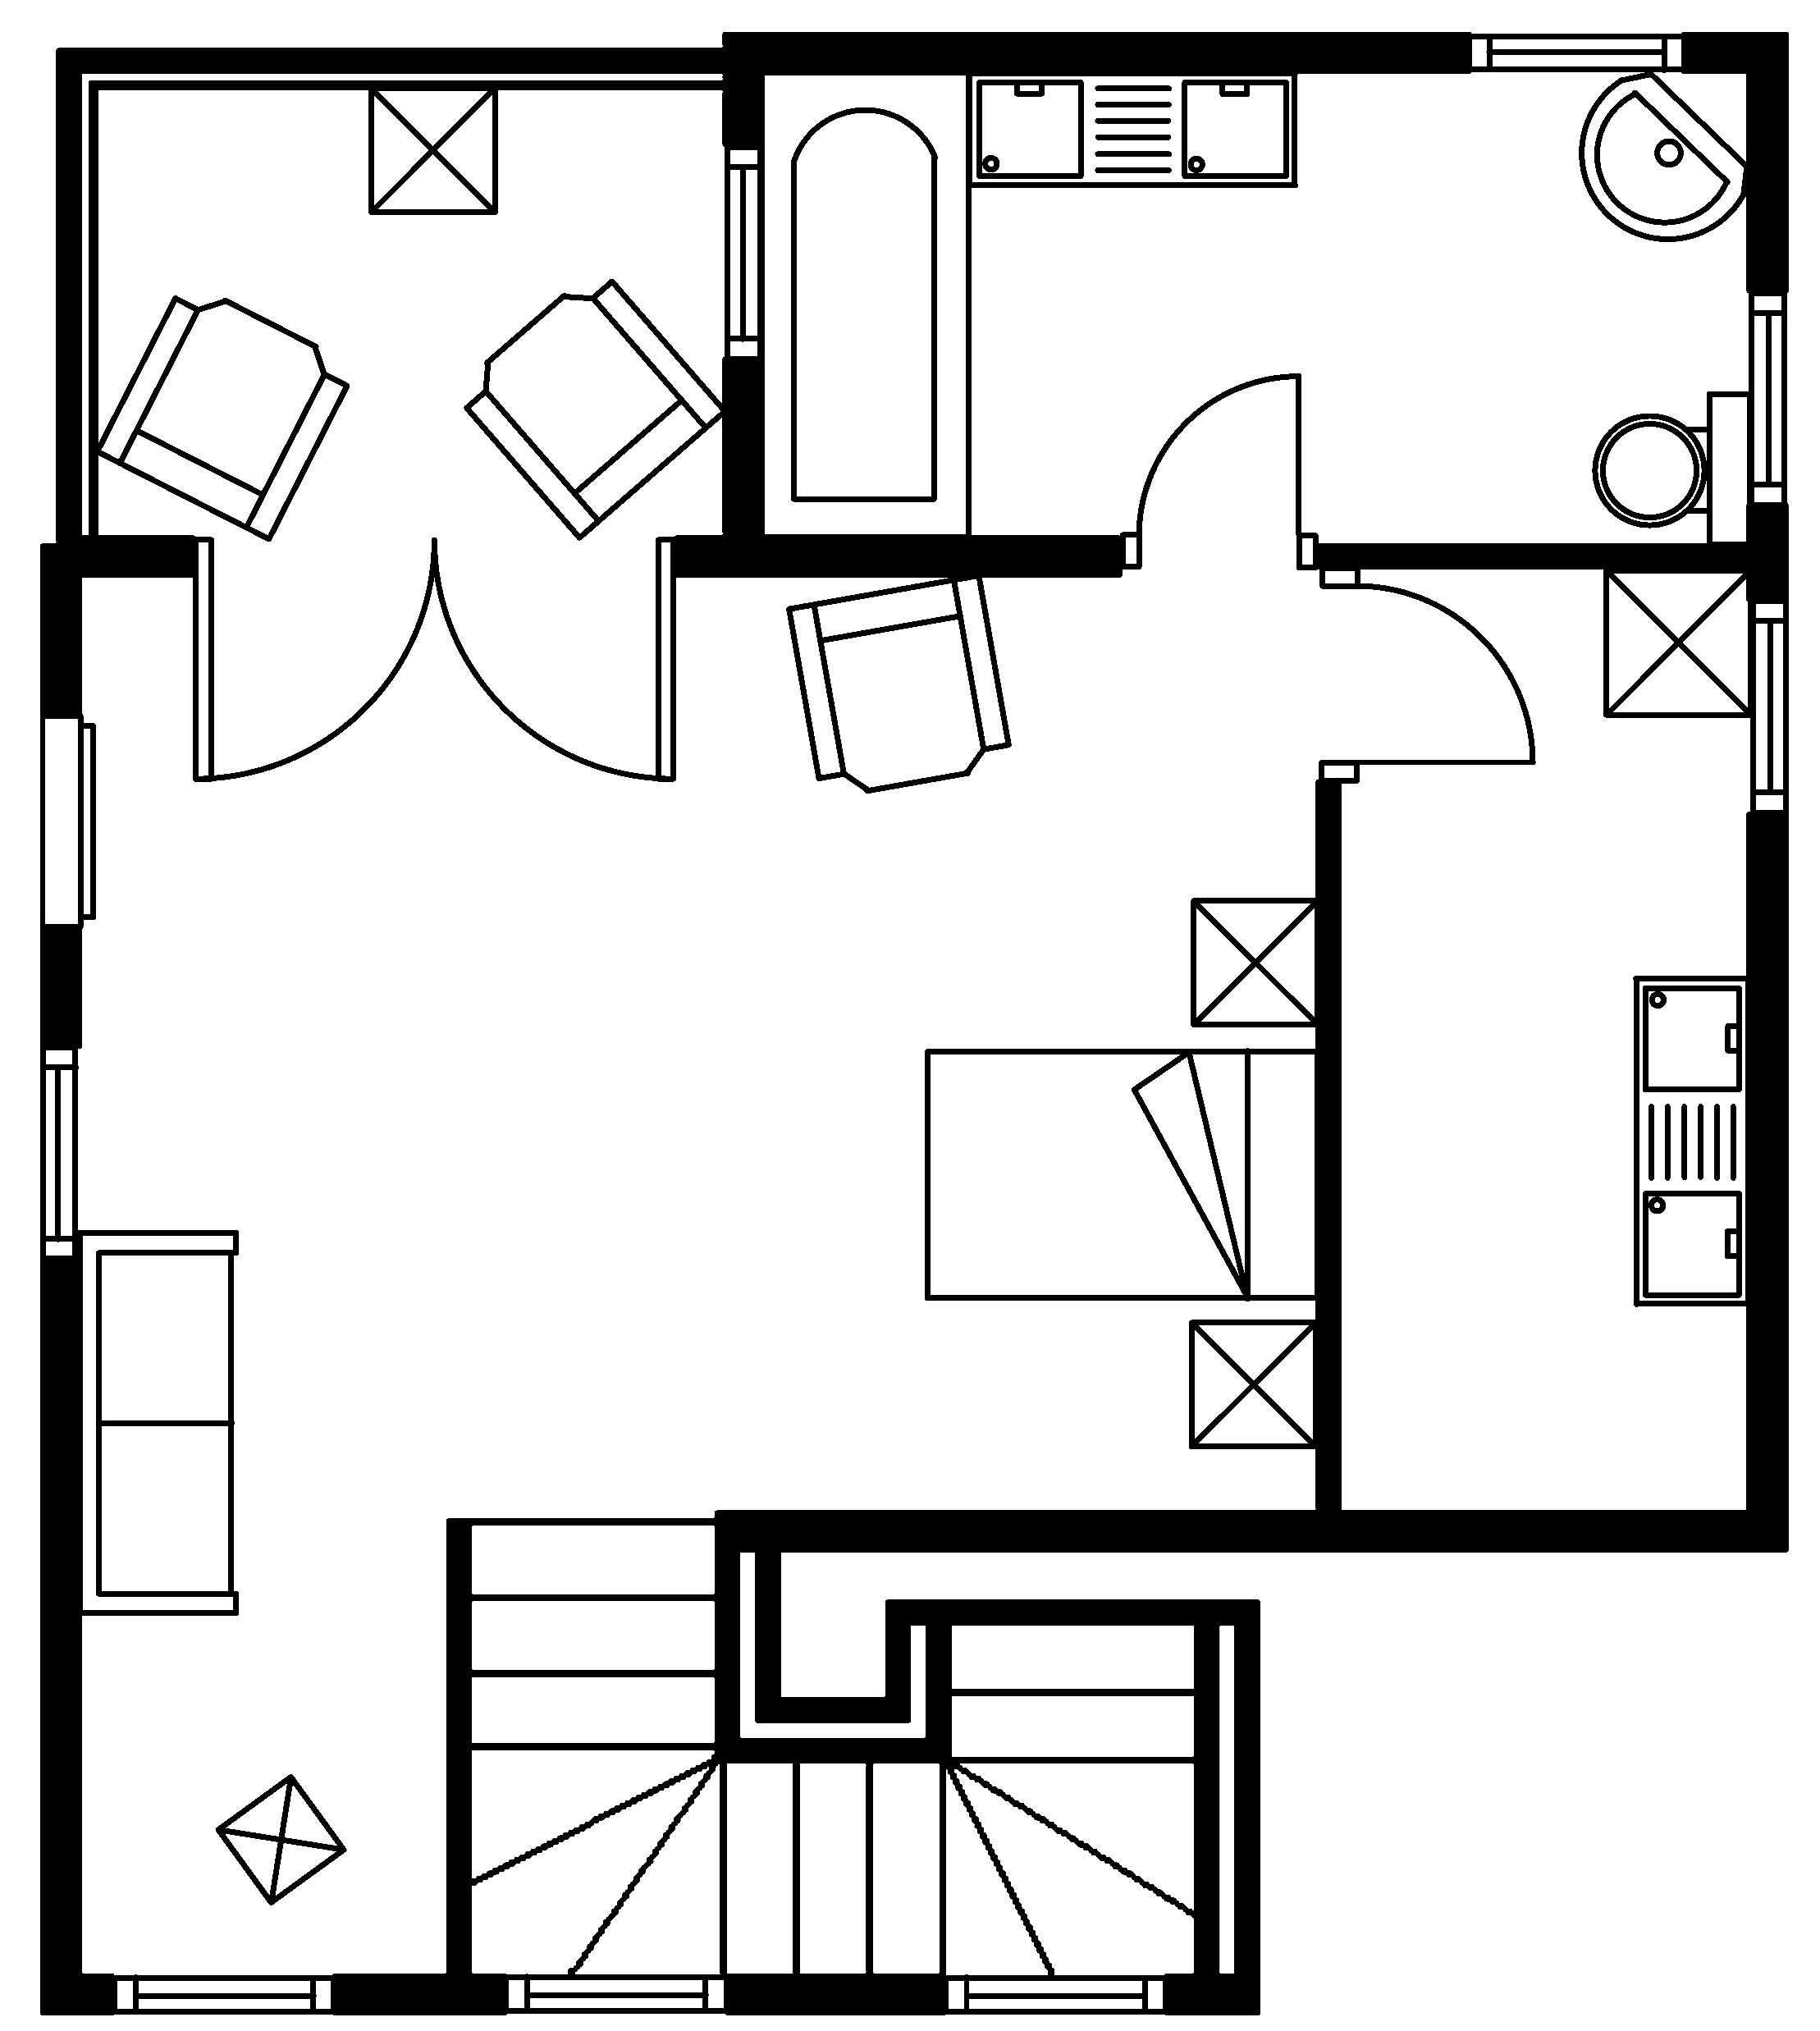armchair: (462, 276, 727, 541), (93, 293, 350, 543), (785, 571, 1012, 794)
bed: (922, 1047, 1321, 1302)
coffee_table: (1602, 566, 1753, 719), (213, 1773, 348, 1906), (1186, 1318, 1319, 1449), (1189, 896, 1321, 1028), (367, 84, 499, 214)
large_sink: (1592, 388, 1753, 548)
large_sofa: (76, 1228, 239, 1616)
small_sink: (1578, 70, 1750, 241)
tub: (757, 69, 971, 539)
twin_sink: (1630, 973, 1751, 1307), (964, 69, 1298, 188)
